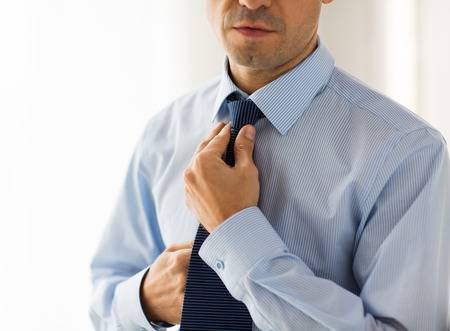F_shirt: (89, 36, 449, 331)
F_tie: (180, 107, 264, 329)
